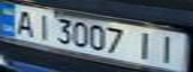0: (87, 21, 109, 52), (69, 19, 90, 48)
3: (51, 16, 75, 45)
7: (106, 25, 130, 55)
A: (9, 7, 39, 37)
I: (151, 33, 184, 65), (130, 29, 160, 61), (30, 11, 54, 40)
